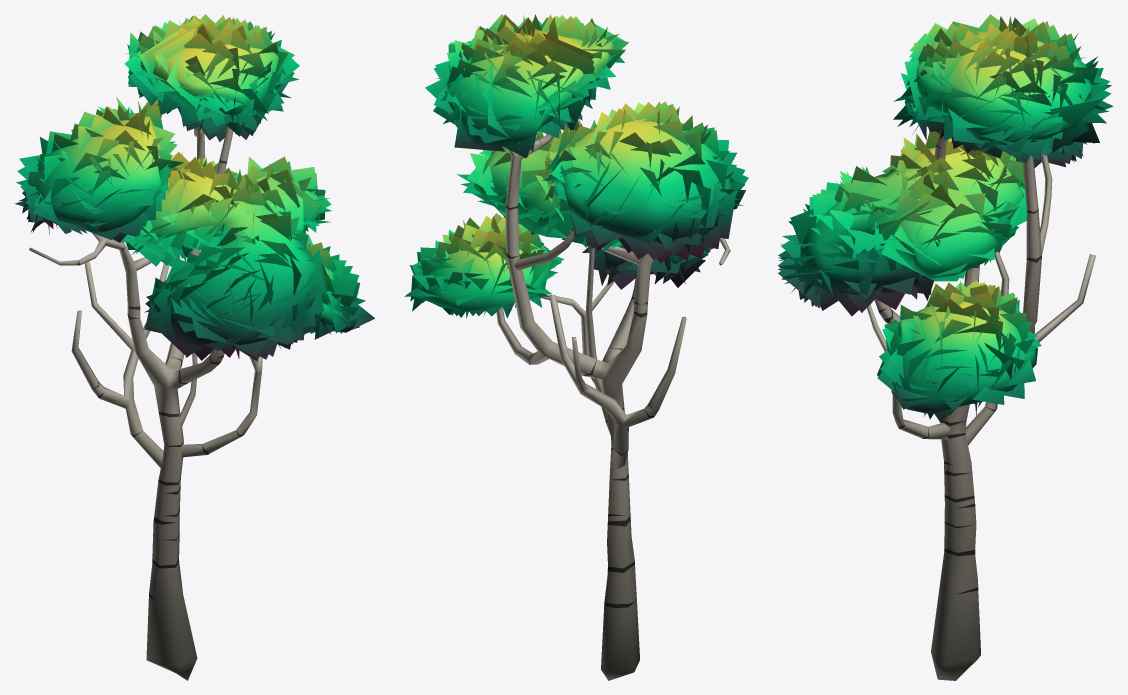
The model's file is Forest_Tree_9B.fbx.
The picture shows the model from 3 angles, left to right: view 1: azimuth 30°, elevation 25°; view 2: azimuth 150°, elevation 25°; view 3: azimuth 270°, elevation 25°; orthographic projection. The views are drawn at different scales.
Visible parts, largest first — view 1: Forest_Tree_9B; view 2: Forest_Tree_9B; view 3: Forest_Tree_9B.
Boxes of the visible parts, x1,y1,x2,y2 form: Forest_Tree_9B: (15, 14, 374, 680); Forest_Tree_9B: (404, 14, 748, 680); Forest_Tree_9B: (778, 14, 1113, 680).
Bounding box in the file's own units: 426 × 804 × 362.
